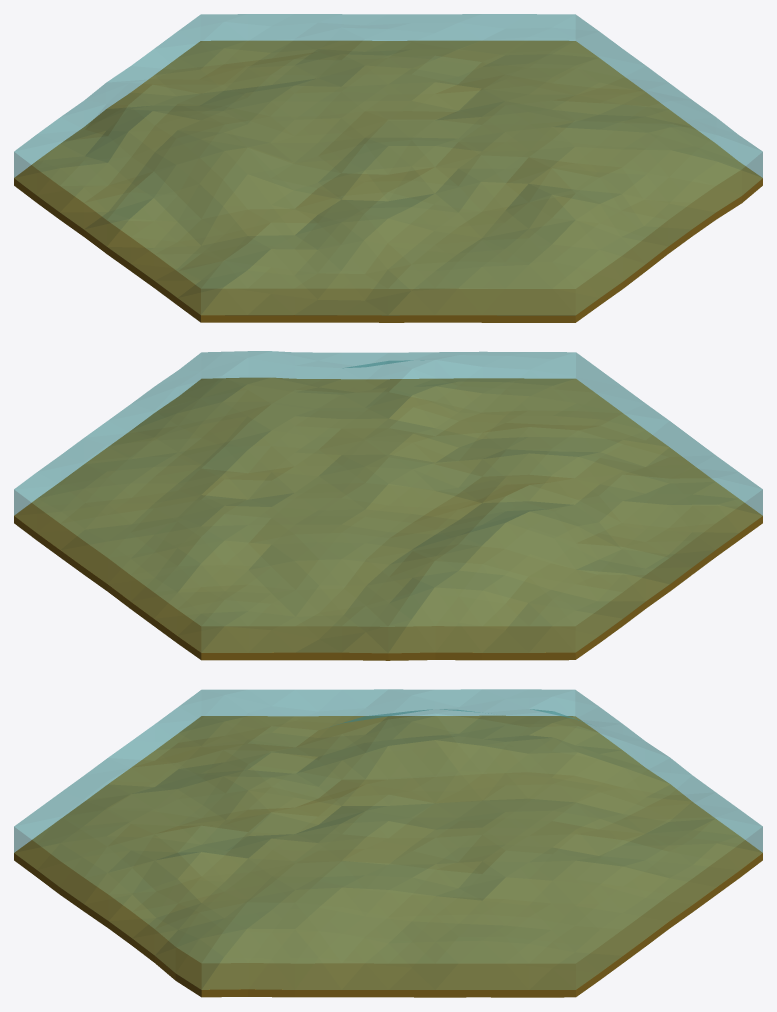
File: ocean.glb
3 renders of one model, top to bottom at view 1: azimuth 30°, elevation 25°; view 2: azimuth 150°, elevation 25°; view 3: azimuth 270°, elevation 25°, orthographic.
Parts seen in each view (by area): view 1: deepocean, deepocean2; view 2: deepocean, deepocean2; view 3: deepocean, deepocean2.
Boxes of the visible parts, x1,y1,x2,y2 form: deepocean: (14,14,762,315); deepocean2: (14,40,762,322); deepocean: (14,351,762,652); deepocean2: (14,377,762,660); deepocean: (14,689,762,989); deepocean2: (14,715,762,997).
Size of the model in its own units: 1.73 by 0.2308 by 2.
